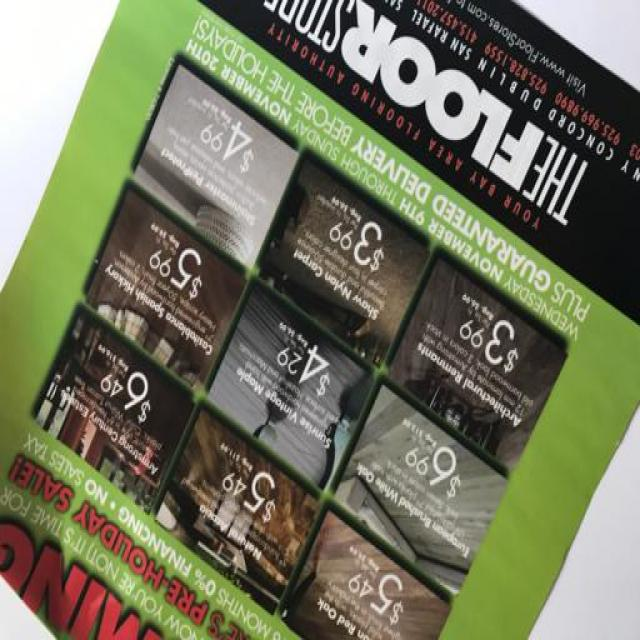paper: (3, 2, 640, 640)
